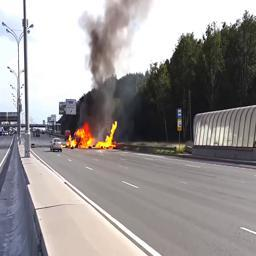fire: (67, 121, 117, 149)
